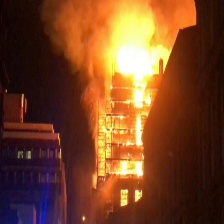fire: (117, 43, 144, 178)
smoke: (44, 1, 189, 55)
